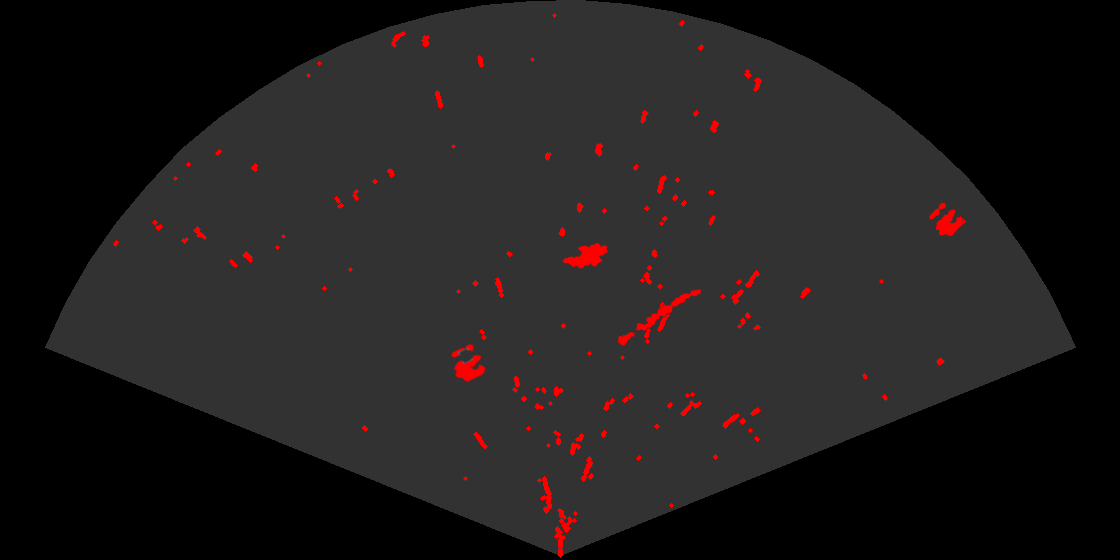AUV: (561, 242, 610, 270)
ball: (450, 342, 487, 384), (928, 201, 964, 238)
chain: (616, 288, 703, 347)
